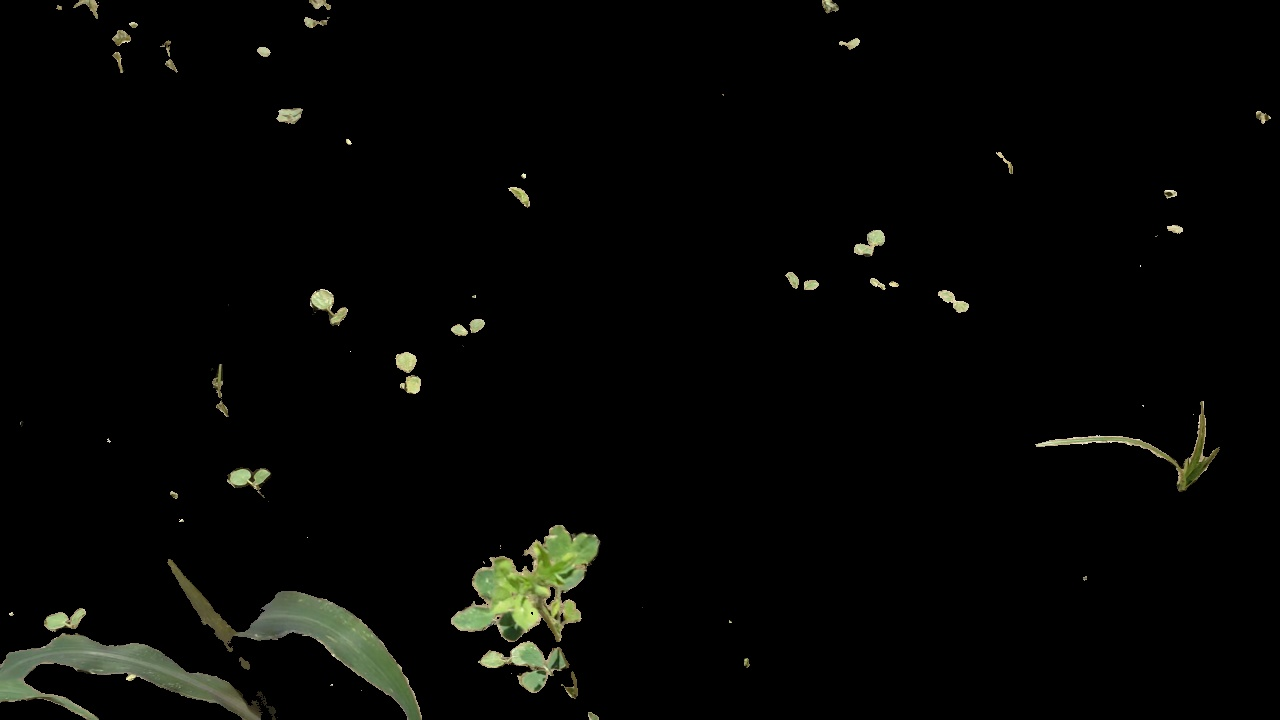crop: (153, 554, 432, 720), (1, 605, 249, 720)
weed: (437, 519, 594, 710), (1036, 385, 1221, 499), (218, 459, 287, 499), (386, 349, 432, 401), (306, 276, 351, 328), (856, 217, 890, 257), (789, 264, 830, 296), (44, 608, 95, 633), (937, 289, 978, 317), (445, 316, 488, 336)
